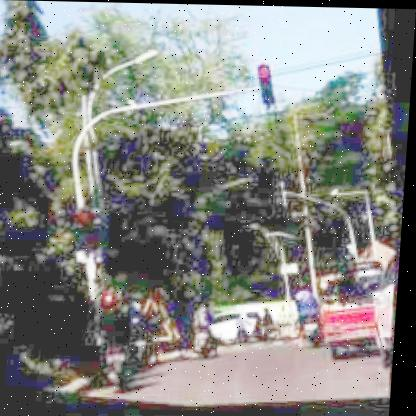Traffic Light -Red-: (256, 63, 282, 107), (78, 212, 102, 256)
